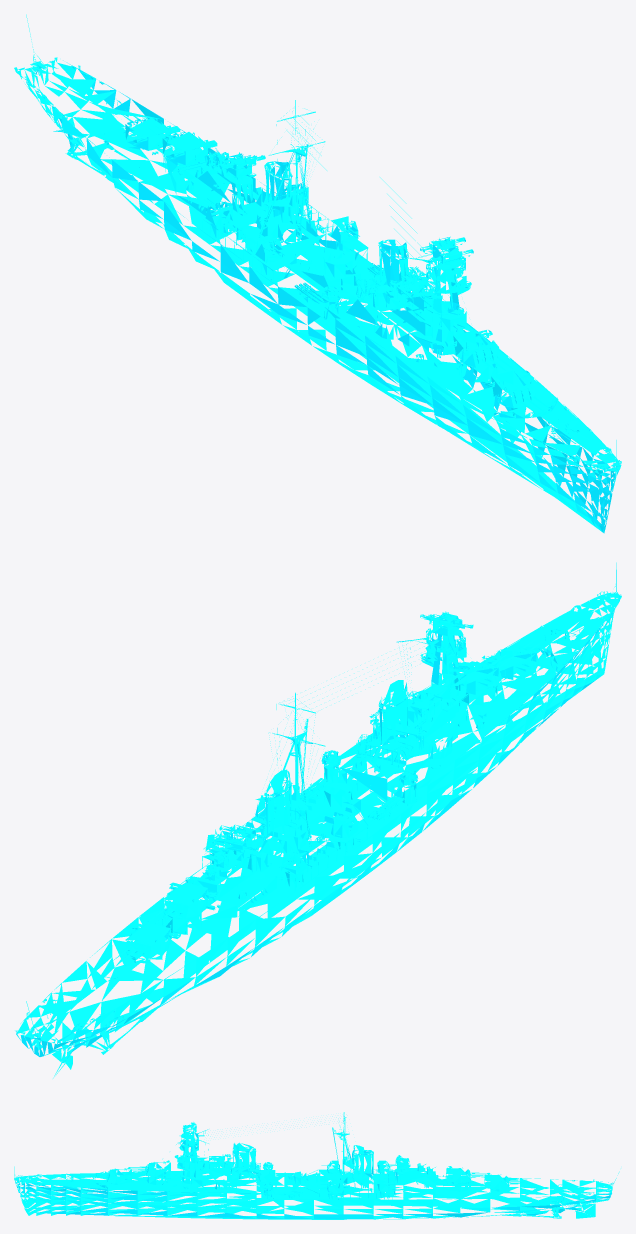
Rendered from PRSC568.glb.
3 views of the same model, one above another, from view 1: azimuth 30°, elevation 25°; view 2: azimuth 150°, elevation 25°; view 3: azimuth 270°, elevation 25° (orthographic). The views are drawn at different scales.
Visible parts, largest first — view 1: hull, turret; view 2: hull, turret; view 3: hull, turret.
Boxes of the visible parts, bbox=[...] form: hull: bbox=[14, 14, 621, 533]; turret: bbox=[110, 109, 551, 413]; hull: bbox=[15, 562, 621, 1078]; turret: bbox=[111, 638, 551, 965]; hull: bbox=[14, 1112, 619, 1219]; turret: bbox=[90, 1160, 527, 1196].
Size of the model in its own units: 1.26 by 2.68 by 13.46.
